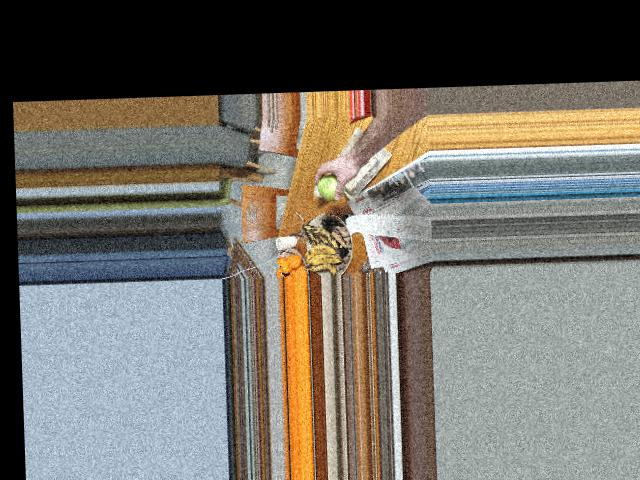apple: (315, 167, 341, 199)
